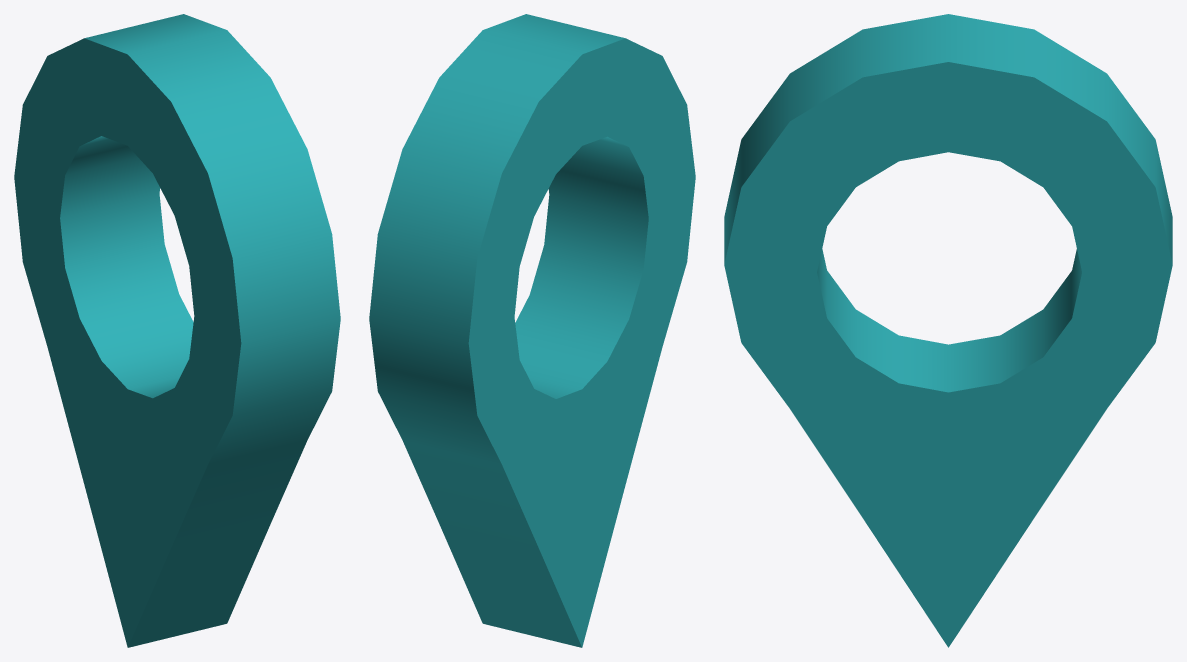
Rendered from Marker_Blue.fbx.
3 views of the same model, side by side, from view 1: azimuth 30°, elevation 25°; view 2: azimuth 150°, elevation 25°; view 3: azimuth 270°, elevation 25° (orthographic).
Parts seen in each view (by area): view 1: Circle; view 2: Circle; view 3: Circle.
Part boxes in pixels (x1,y1,x2,y2): Circle: [14, 14, 340, 647]; Circle: [369, 14, 695, 647]; Circle: [724, 14, 1172, 647].
Size of the model in its own units: 0.3332 by 1.9 by 1.32.
